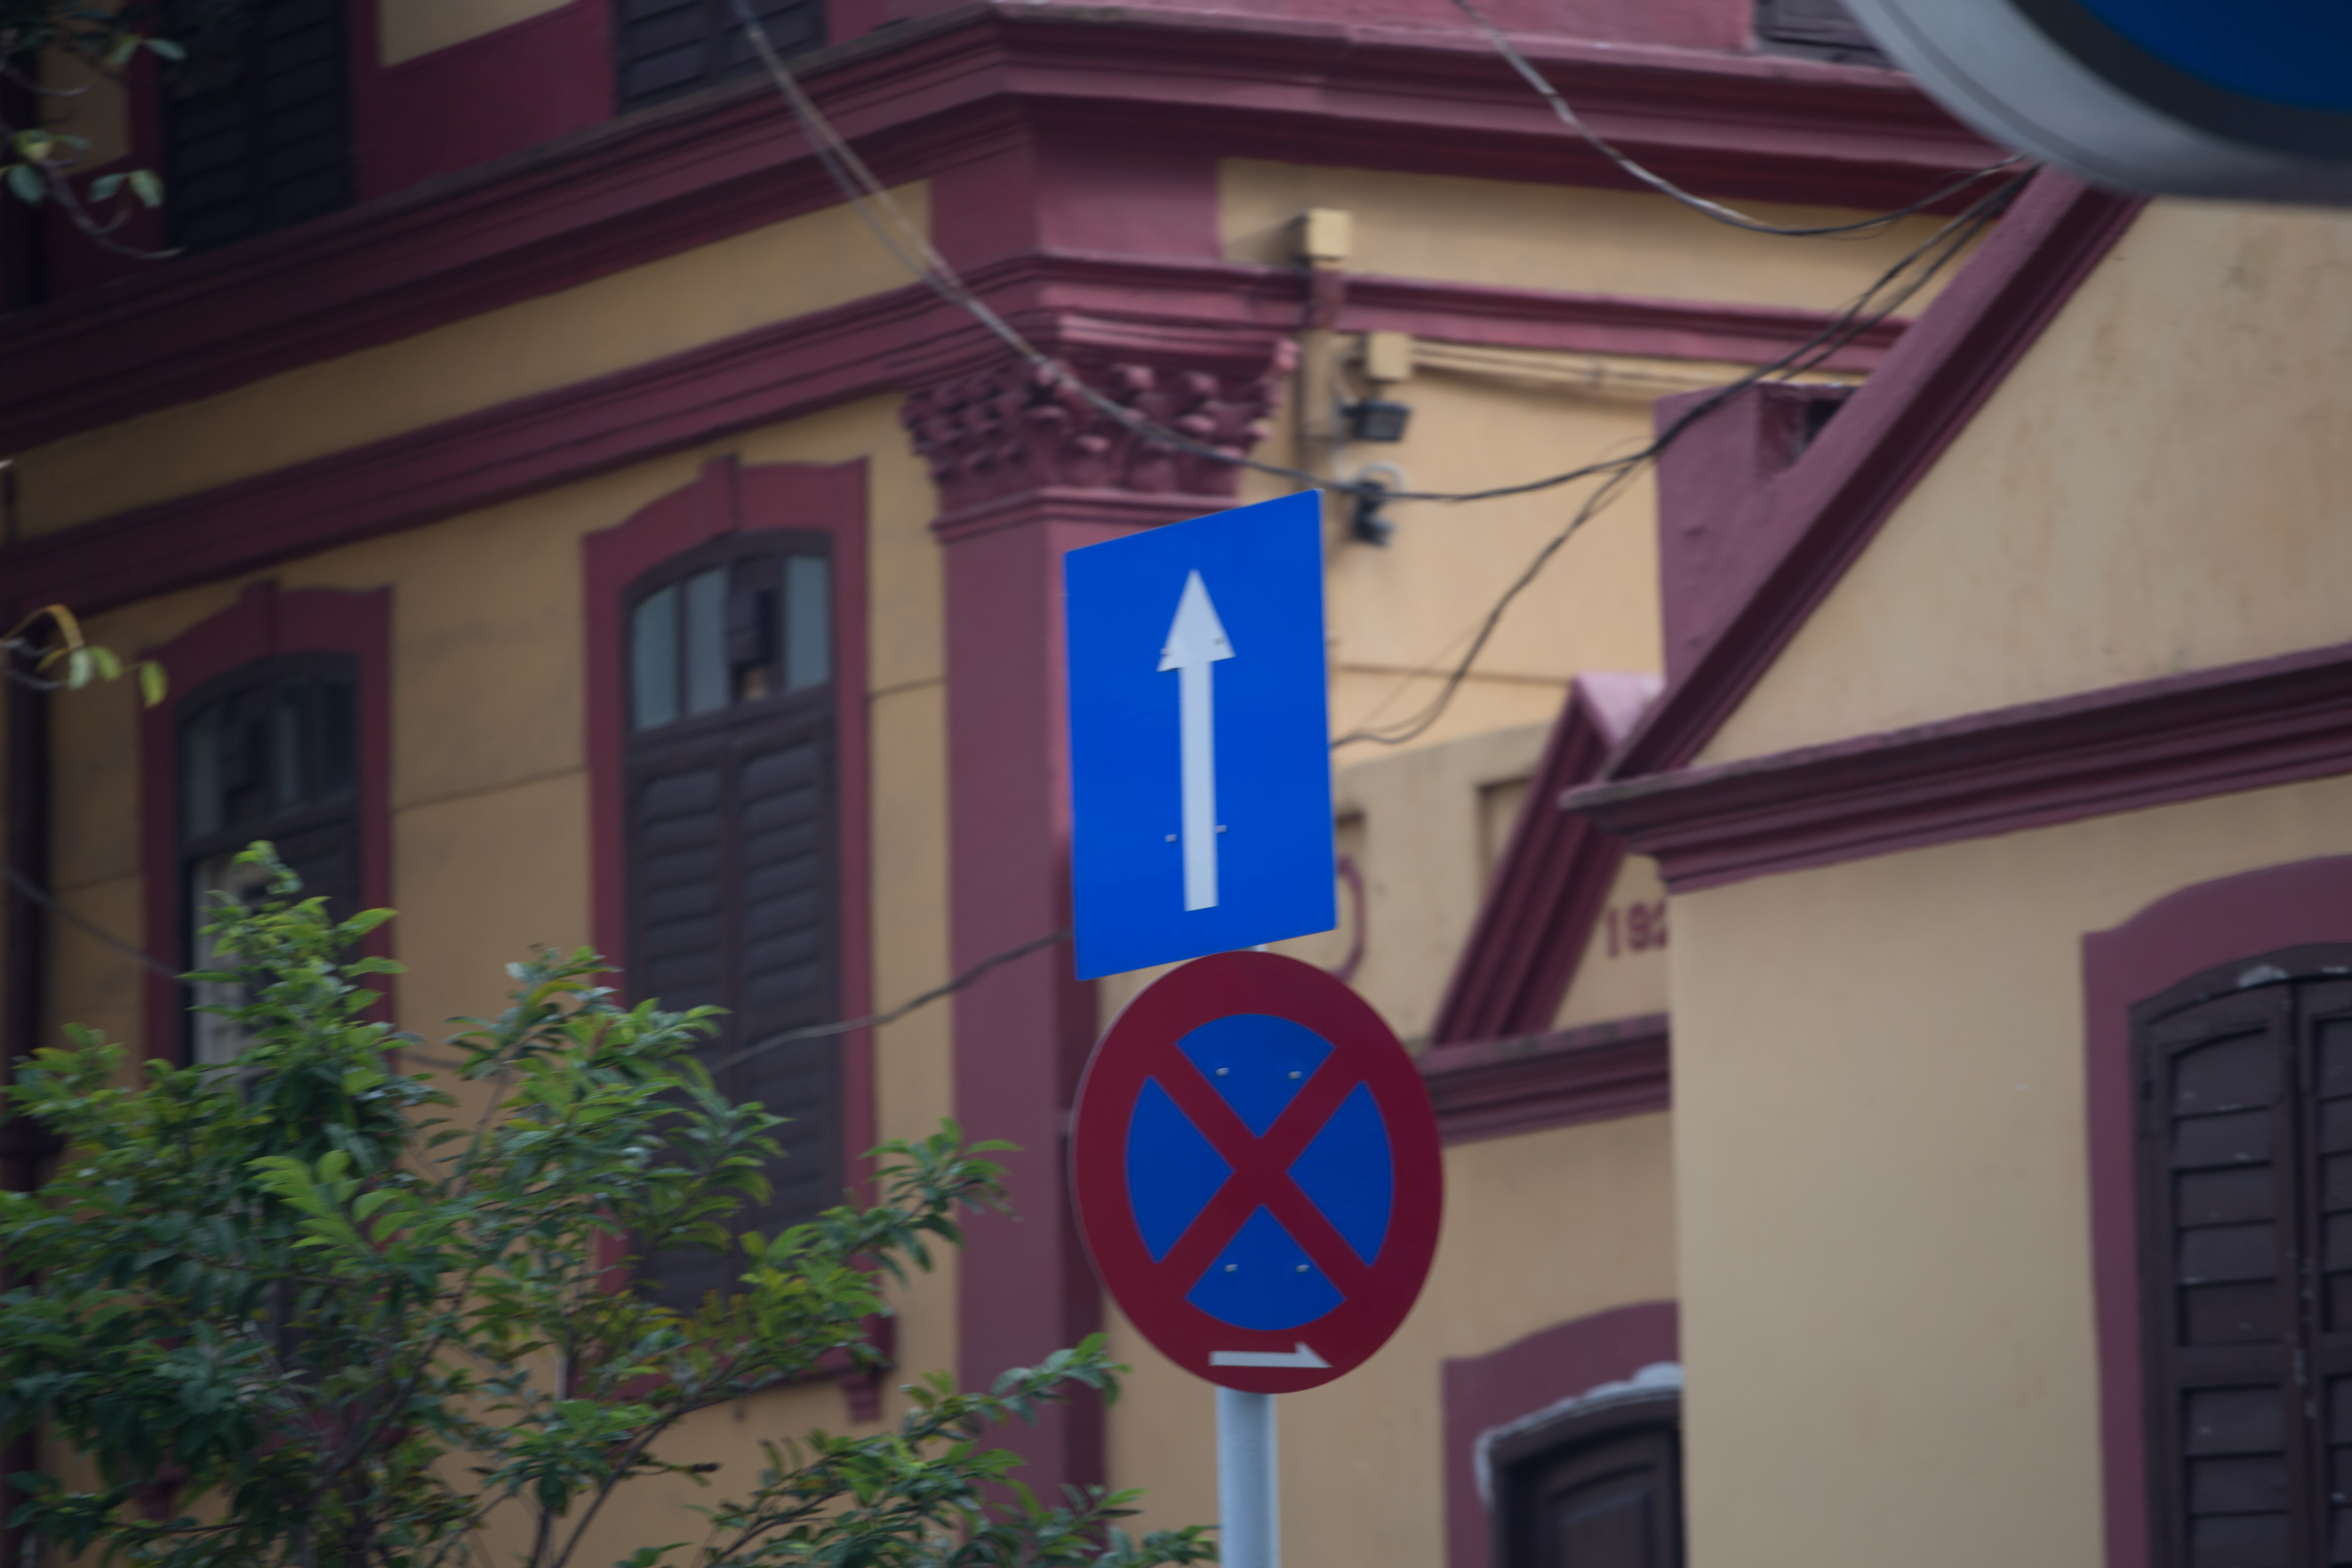noStopping: (1024, 933, 1496, 1414)
oneway: (1015, 476, 1403, 983)
